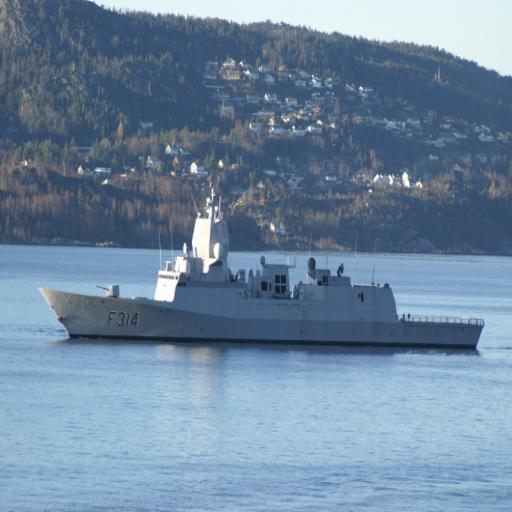Fragata: (38, 186, 488, 352)
